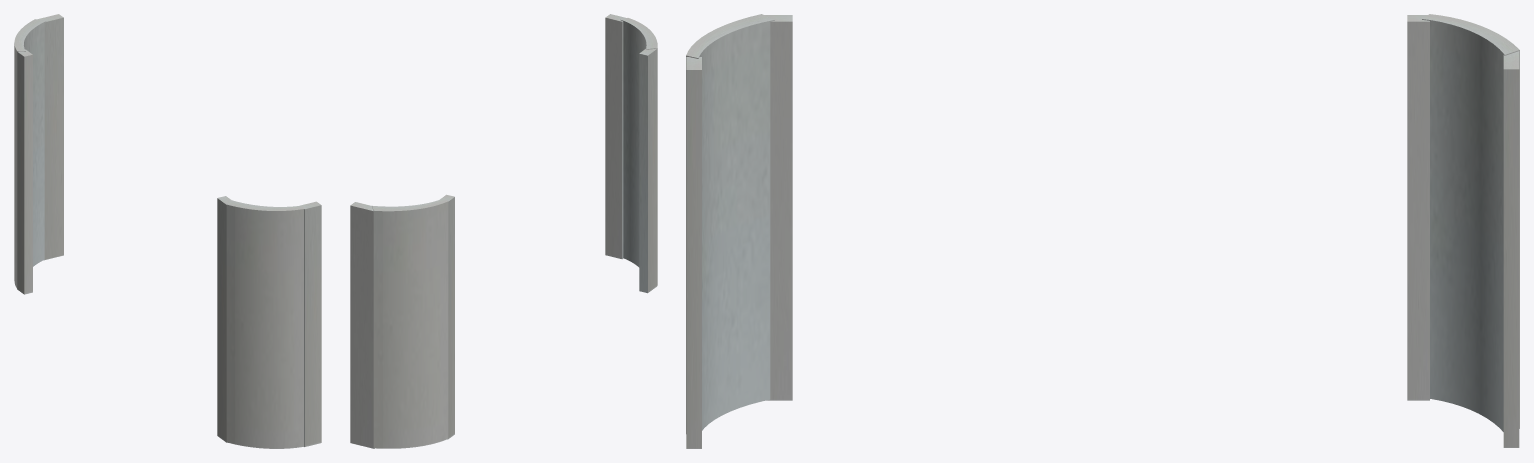
File: backGlass.obj
3 renders of one model, left to right at view 1: azimuth 30°, elevation 25°; view 2: azimuth 150°, elevation 25°; view 3: azimuth 270°, elevation 25°, orthographic. The views are drawn at different scales.
Parts seen in each view (by area): view 1: frontGlass2:polySurface2pasted__pCube4group85 pasted__group90 gr, pasted__pasted__pasted__pCube9 pasted__pasted__group92 pasted__g, pasted__pasted__pCube9 pasted__group92 group93, frontGlass1:polySurface2pasted__pCube4group85 group90, pCube9, pasted__pCube9 group92; view 2: frontGlass1:polySurface2pasted__pCube4group85 group90, pasted__pasted__pasted__pCube9 pasted__pasted__group92 pasted__g, frontGlass2:polySurface2pasted__pCube4group85 pasted__group90 gr, pasted__pasted__pCube9 pasted__group92 group93, pasted__pCube9 group92, pCube9; view 3: frontGlass1:polySurface2pasted__pCube4group85 group90, frontGlass2:polySurface2pasted__pCube4group85 pasted__group90 gr, pasted__pCube9 group92, pCube9, pasted__pasted__pasted__pCube9 pasted__pasted__group92 pasted__g, pasted__pasted__pCube9 pasted__group92 group93.
Part boxes in pixels (x1,y1,x2,y2): frontGlass2:polySurface2pasted__pCube4group85 pasted__group90 gr: (226, 200, 303, 448); pasted__pasted__pasted__pCube9 pasted__pasted__group92 pasted__g: (37, 14, 63, 260); pasted__pasted__pCube9 pasted__group92 group93: (300, 201, 321, 446); frontGlass1:polySurface2pasted__pCube4group85 group90: (14, 19, 46, 288); pCube9: (17, 49, 32, 294); pasted__pCube9 group92: (217, 196, 230, 442); frontGlass1:polySurface2pasted__pCube4group85 group90: (372, 198, 448, 448); pasted__pasted__pasted__pCube9 pasted__pasted__group92 pasted__g: (350, 202, 374, 448); frontGlass2:polySurface2pasted__pCube4group85 pasted__group90 gr: (621, 18, 657, 285); pasted__pasted__pCube9 pasted__group92 group93: (605, 14, 625, 259); pasted__pCube9 group92: (639, 48, 657, 293); pCube9: (440, 194, 454, 439); frontGlass1:polySurface2pasted__pCube4group85 group90: (1422, 14, 1519, 431); frontGlass2:polySurface2pasted__pCube4group85 pasted__group90 gr: (686, 14, 774, 433); pasted__pCube9 group92: (764, 15, 792, 400); pCube9: (1407, 15, 1429, 400); pasted__pasted__pasted__pCube9 pasted__pasted__group92 pasted__g: (1503, 51, 1519, 447); pasted__pasted__pCube9 pasted__group92 group93: (686, 57, 701, 448).
Bounding box in the file's own units: 2.47 × 7.92 × 15.76.
Materials: 6 (6 with a texture image).
